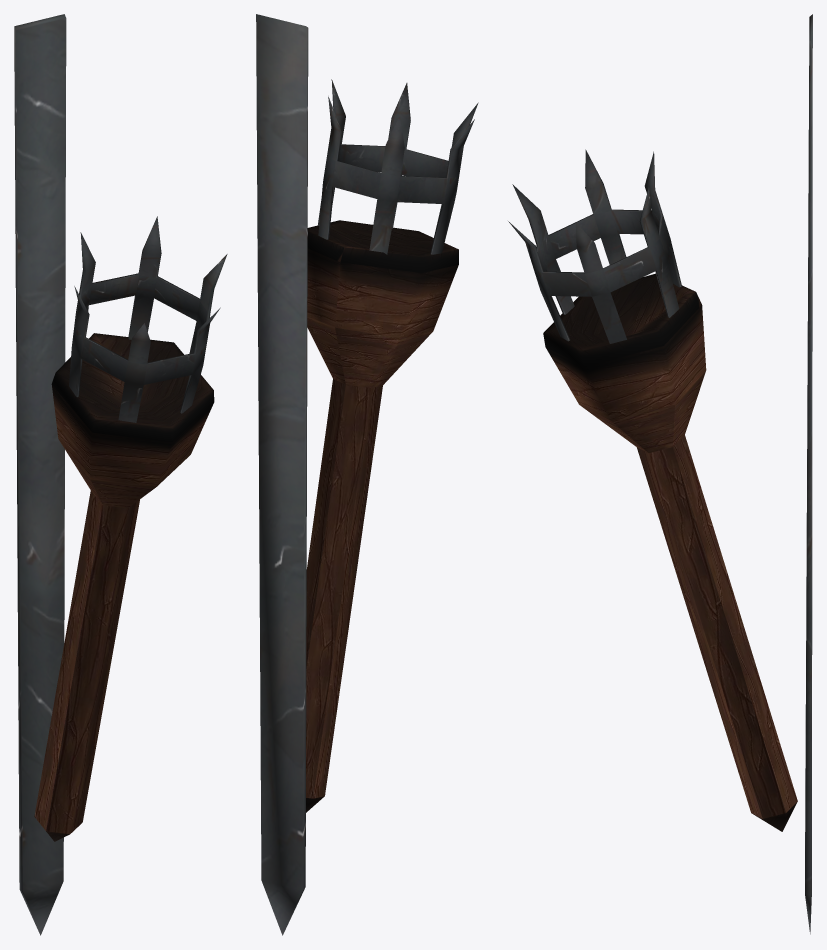
File: Antorcha.fbx
3 renders of one model, left to right at view 1: azimuth 30°, elevation 25°; view 2: azimuth 150°, elevation 25°; view 3: azimuth 270°, elevation 25°, orthographic.
Visible parts, largest first — view 1: WallTorches; view 2: WallTorches; view 3: WallTorches.
Part boxes in pixels (<box>): WallTorches: <box>14,14,227,935</box>; WallTorches: <box>256,14,478,935</box>; WallTorches: <box>508,14,812,934</box>.
Size of the model in its own units: 38.64 by 69.34 by 228.
